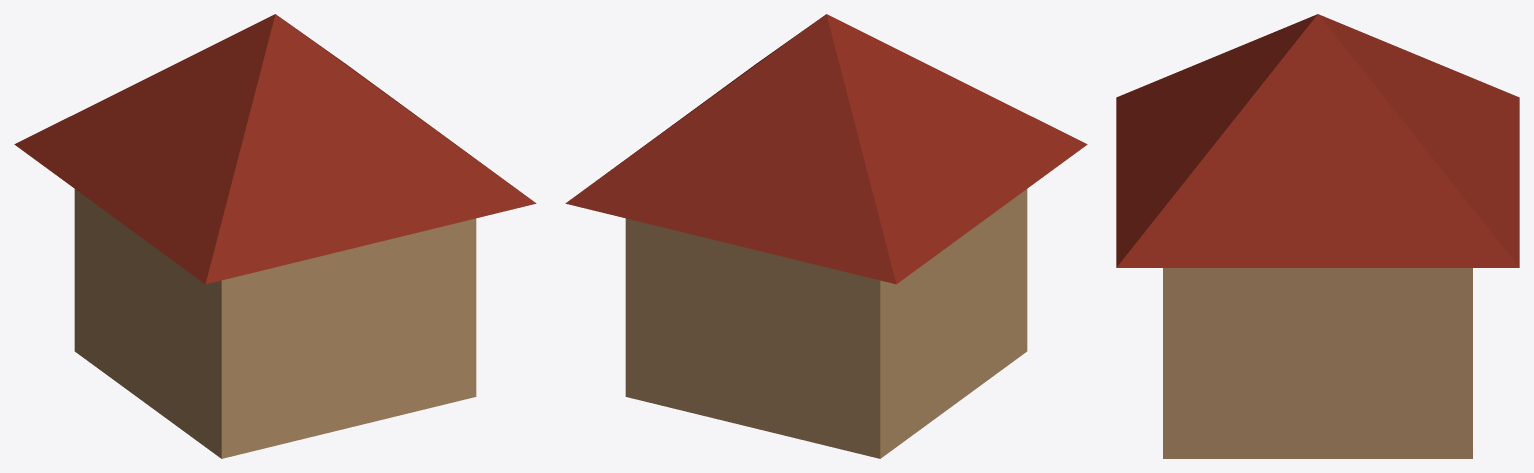
The model's file is house.obj.
The picture shows the model from 3 angles, left to right: view 1: azimuth 30°, elevation 25°; view 2: azimuth 150°, elevation 25°; view 3: azimuth 270°, elevation 25°; orthographic projection. The views are drawn at different scales.
Bounding box in the file's own units: 5.2 × 5.4 × 5.2.
